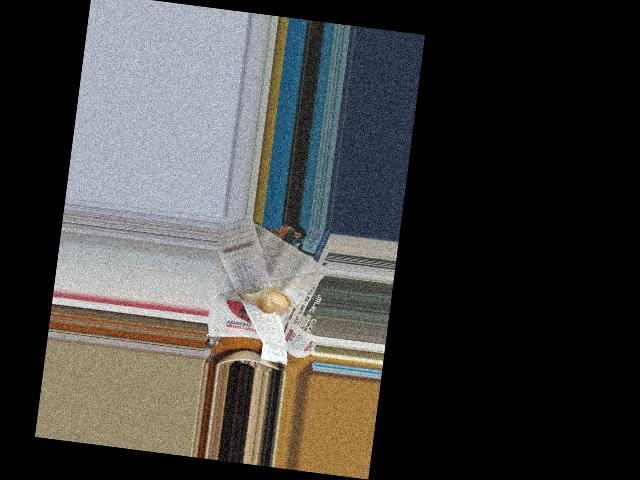onion: (251, 284, 292, 314)
